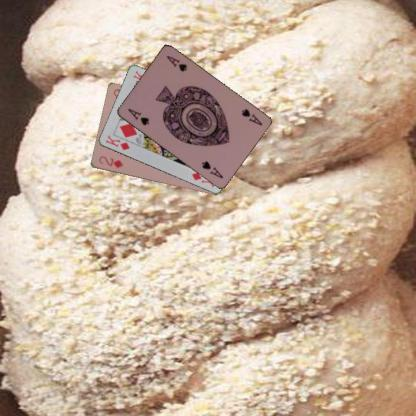2d: (96, 154, 124, 169)
As: (125, 106, 150, 127), (238, 106, 263, 127)
Kd: (103, 132, 131, 152)
